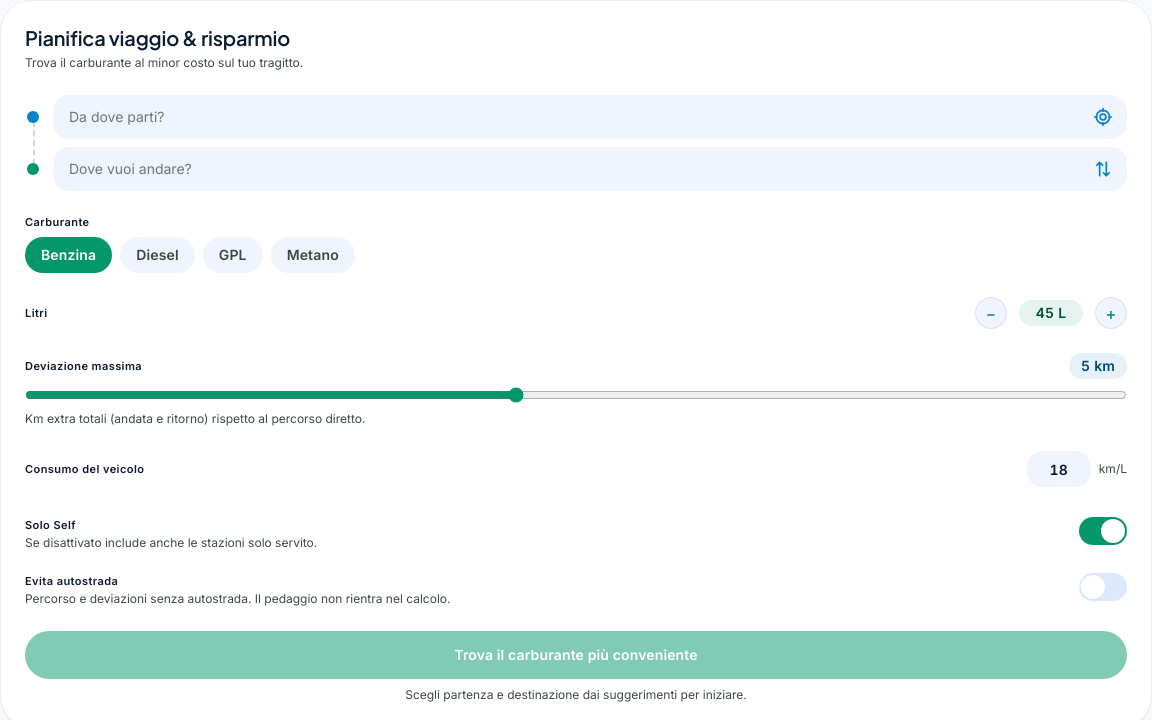
Scenario: SearchForm — precompilazione dalle Impostazioni › «Ripristina» del consumo torna al valore salvato nelle Impostazioni
Replace the text in the field labelled "Consumo del veicolo" with "22" at (1059, 469), box [1027, 451, 1091, 487]
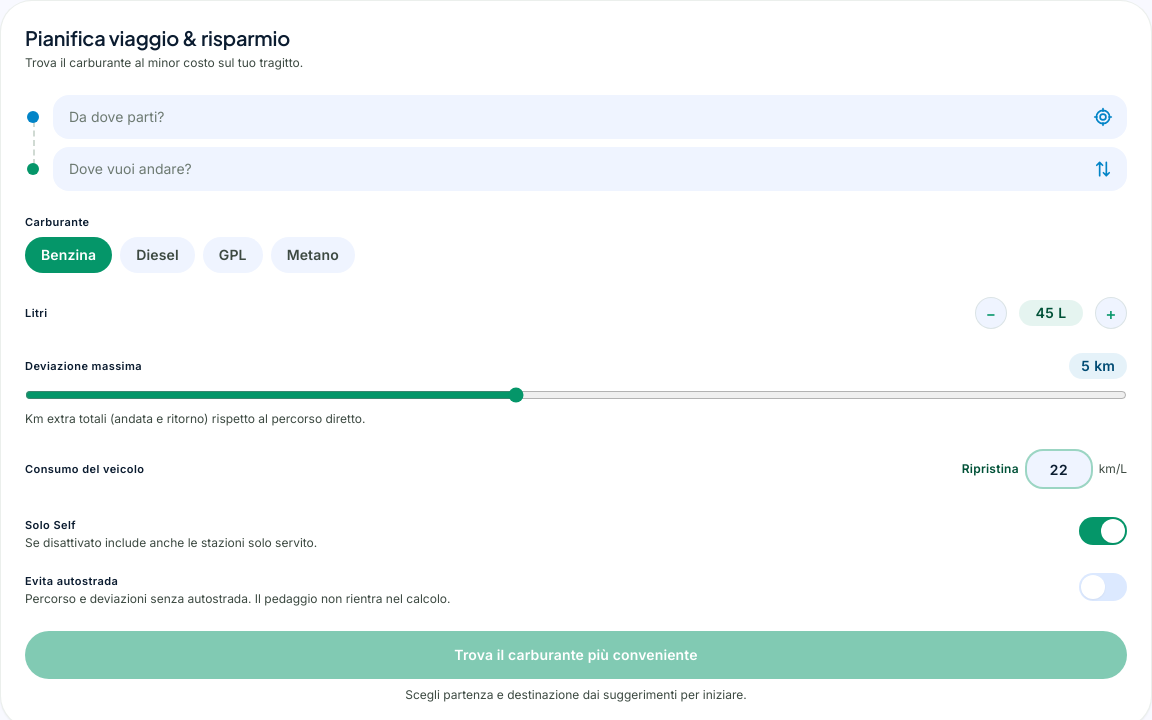
Click the button "Ripristina".
click(990, 469)  # box [962, 461, 1019, 477]
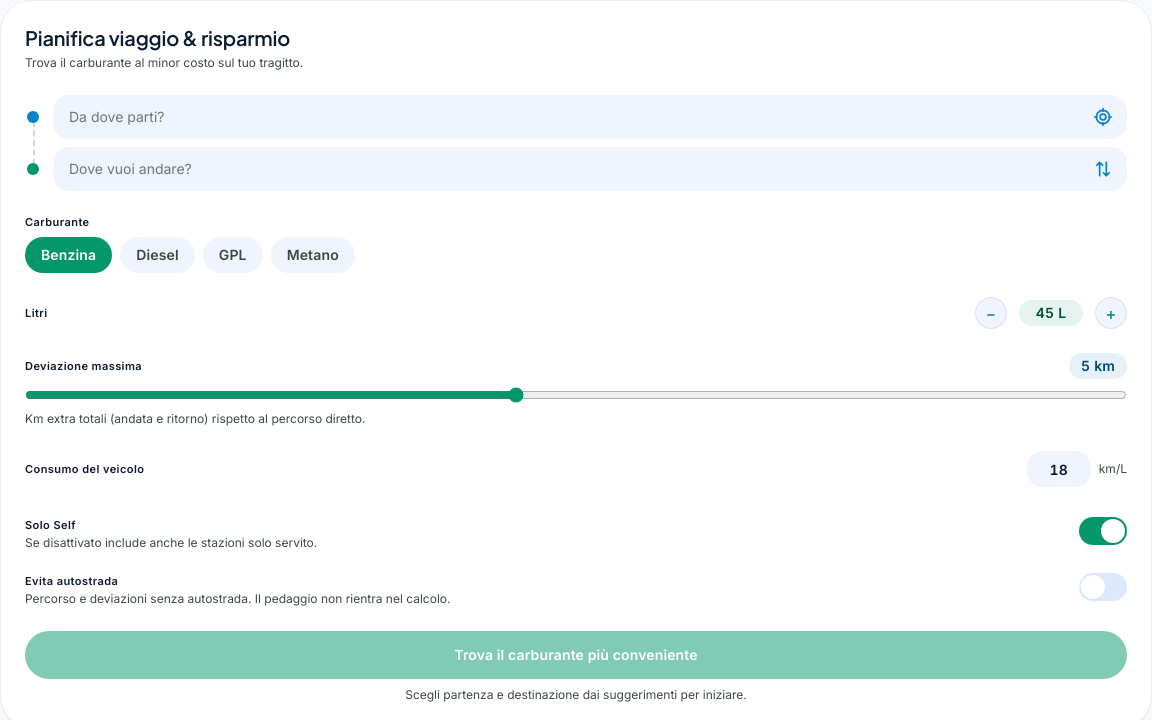
expect the field labelled "Consumo del veicolo" holds "18": met, box [1027, 451, 1091, 487]
